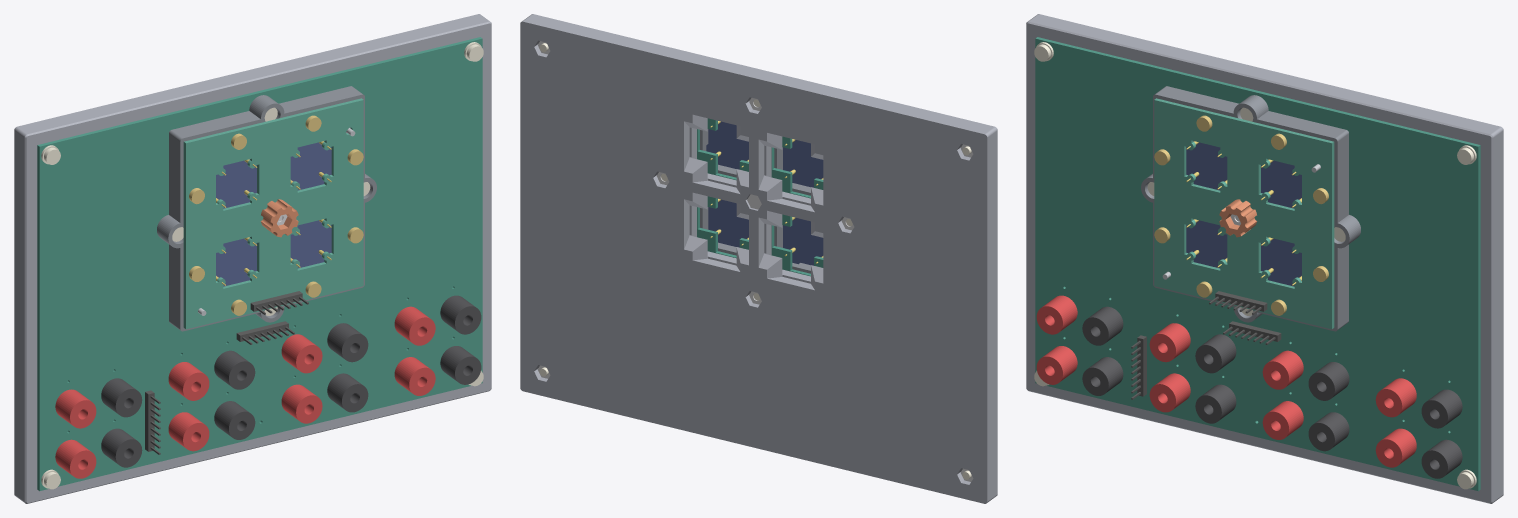
3 views of the same model, side by side, from view 1: azimuth 30°, elevation 25°; view 2: azimuth 150°, elevation 25°; view 3: azimuth 330°, elevation 25° (orthographic).
Visible parts, largest first — view 1: n002, n001, n003, n000, n005, n007, n004, n006, n131, n134, n143, n113 (+16 smaller); view 2: n001, n002, n000, n007, n004, n005, n006; view 3: n002, n001, n003, n000, n004, n006, n005, n007, n122, n119, n128, n110 (+16 smaller).
Boxes of the visible parts, <box> form: n002: <box>37,37,482,491</box>; n001: <box>14,14,491,503</box>; n003: <box>183,98,363,329</box>; n000: <box>157,86,376,331</box>; n005: <box>290,220,331,268</box>; n007: <box>290,142,331,190</box>; n004: <box>216,237,256,286</box>; n006: <box>216,159,256,208</box>; n131: <box>281,384,322,423</box>; n134: <box>327,373,368,412</box>; n143: <box>394,357,435,395</box>; n113: <box>168,362,209,400</box>; n001: <box>520,14,997,503</box>; n002: <box>697,118,823,276</box>; n000: <box>700,129,810,273</box>; n007: <box>706,121,748,169</box>; n004: <box>783,218,823,265</box>; n005: <box>708,199,748,247</box>; n006: <box>783,140,823,187</box>; n002: <box>1035,37,1480,491</box>; n001: <box>1026,14,1503,503</box>; n003: <box>1154,98,1334,329</box>; n000: <box>1141,86,1360,331</box>; n004: <box>1186,220,1227,268</box>; n006: <box>1186,142,1227,190</box>; n005: <box>1261,237,1301,286</box>; n007: <box>1261,159,1301,208</box>; n122: <box>1195,384,1236,423</box>; n119: <box>1149,373,1190,412</box>; n128: <box>1308,362,1349,400</box>; n110: <box>1082,357,1123,395</box>.
Size of the model in its own units: 194 by 147 by 28.05.
